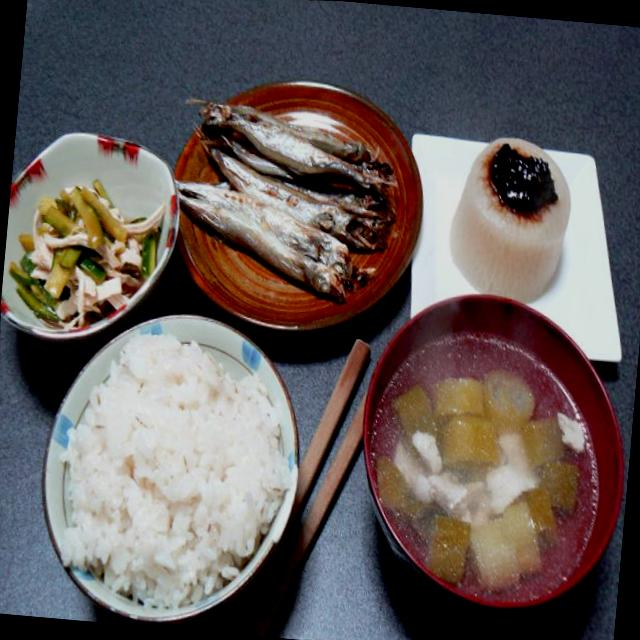Rice: (47, 318, 310, 622)
